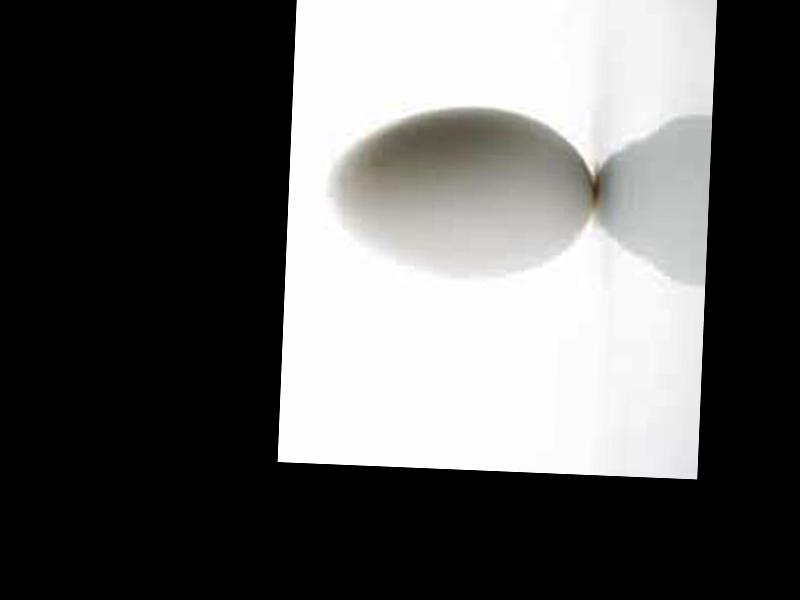Eggs: (327, 101, 597, 277)
